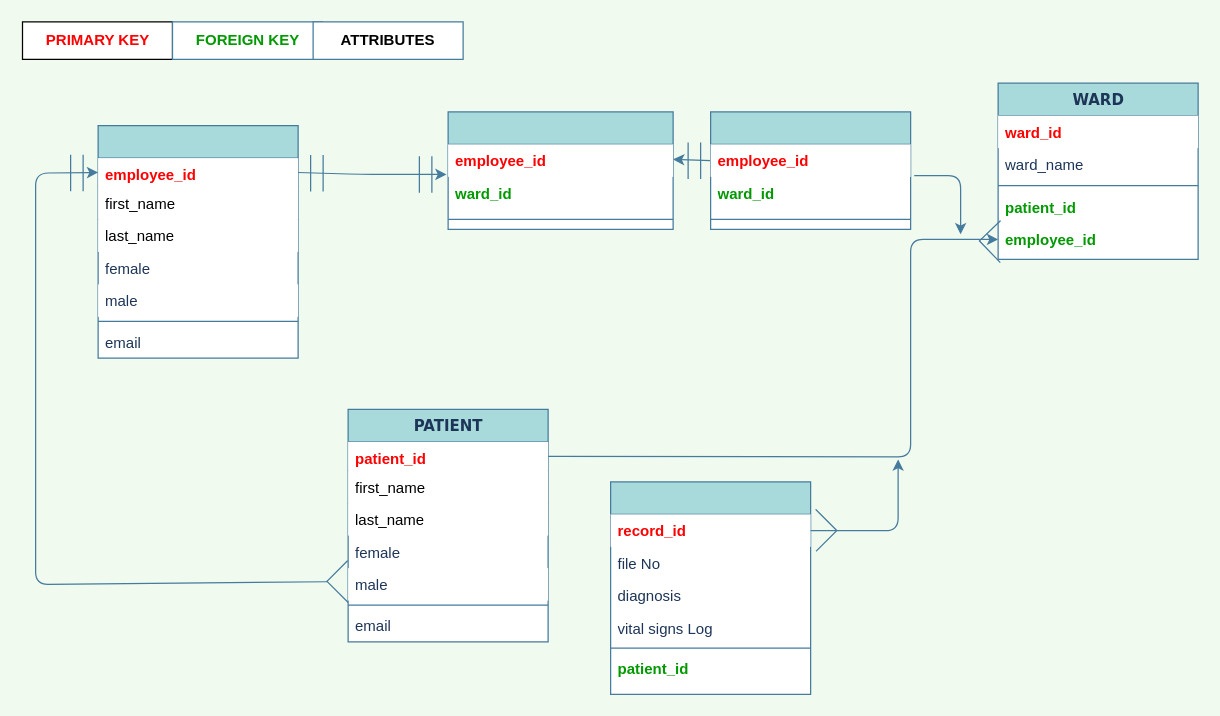
The diagram is 1220 pixels wide and 716 high, and some of its shapes have lost their labels. Each missing label, with the box of its shape:
EMPLOYESS: (97, 124, 298, 358)
MEDICAL_STAFF: (709, 111, 911, 229)
NON_MEDICALS_STAFF: (447, 111, 673, 229)
RECORDS: (609, 481, 811, 694)
